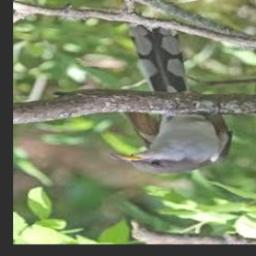Cuckoo: (110, 26, 231, 176)
